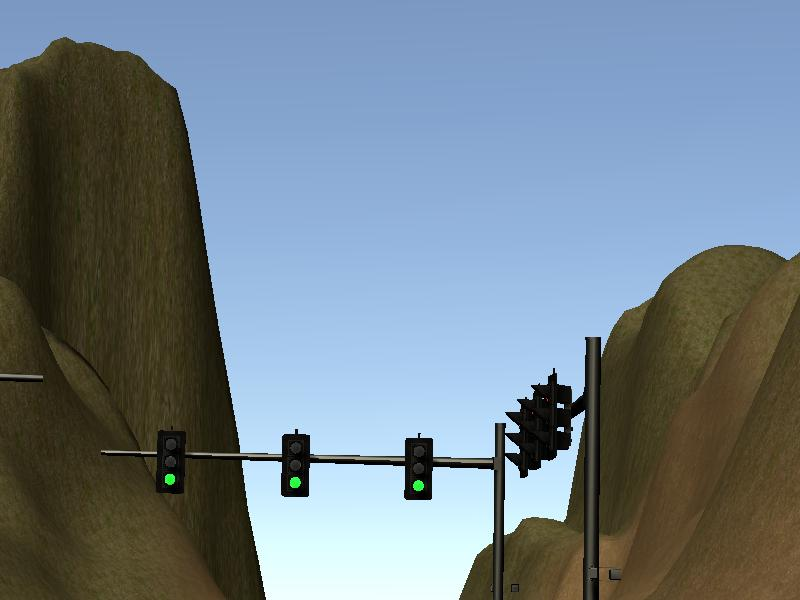Green: (156, 429, 185, 493), (405, 438, 432, 499), (282, 434, 308, 496)
